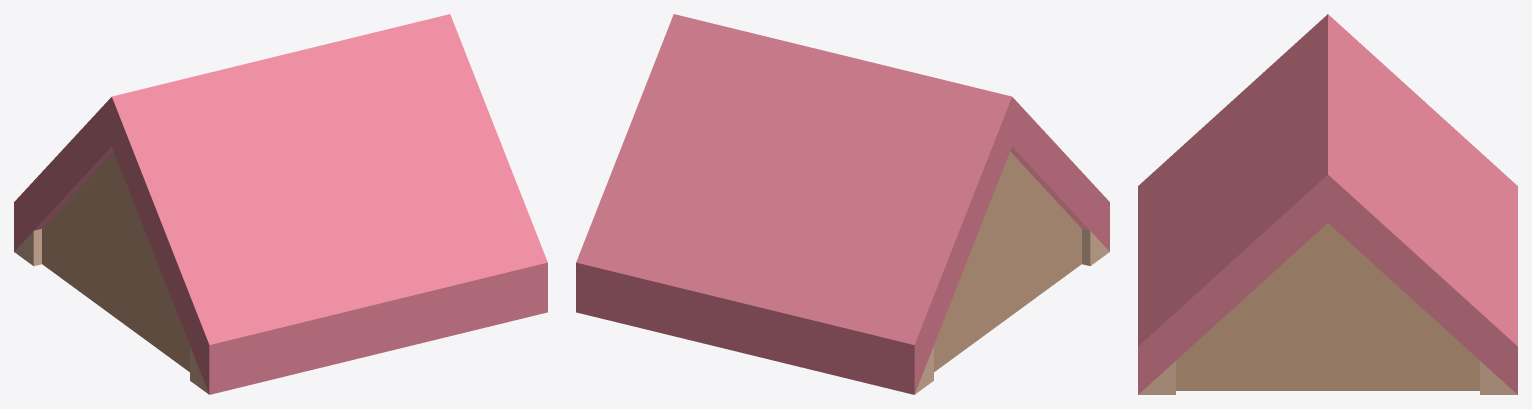
The picture shows the model from 3 angles, left to right: view 1: azimuth 30°, elevation 25°; view 2: azimuth 150°, elevation 25°; view 3: azimuth 270°, elevation 25°; orthographic projection. The views are drawn at different scales.
Visible parts, largest first — view 1: roofHighGableTop; view 2: roofHighGableTop; view 3: roofHighGableTop.
Part boxes in pixels (x1,y1,x2,y2): roofHighGableTop: (14,14,547,394); roofHighGableTop: (576,14,1109,394); roofHighGableTop: (1138,14,1517,394).
Bounding box in the file's own units: 1 × 0.6407 × 1.
